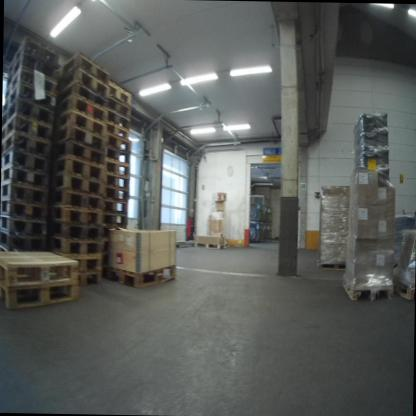pallet: (1, 245, 81, 285), (0, 275, 80, 313), (102, 259, 181, 294), (53, 66, 112, 100), (56, 50, 110, 85), (53, 94, 108, 126), (343, 273, 400, 303), (52, 121, 105, 151), (53, 171, 108, 199), (53, 110, 108, 138), (3, 67, 55, 95), (53, 138, 103, 166), (55, 82, 108, 108), (52, 157, 105, 183), (2, 115, 53, 142), (2, 134, 52, 161), (52, 218, 105, 242), (53, 233, 105, 257), (2, 149, 50, 175), (3, 97, 51, 123), (4, 87, 53, 111), (5, 56, 54, 80), (0, 232, 46, 257), (52, 188, 104, 210), (3, 165, 50, 189), (9, 38, 53, 63), (49, 204, 105, 223), (3, 185, 47, 208), (0, 216, 48, 237), (72, 272, 109, 298), (2, 201, 48, 221), (67, 256, 105, 276), (312, 252, 342, 275), (102, 156, 132, 179), (103, 172, 132, 192), (102, 145, 131, 165), (97, 196, 128, 214), (106, 122, 133, 142), (397, 269, 412, 303), (108, 95, 133, 114), (102, 184, 127, 201), (108, 111, 133, 128), (108, 136, 131, 153), (112, 83, 132, 102), (193, 241, 225, 252), (101, 216, 130, 225)
